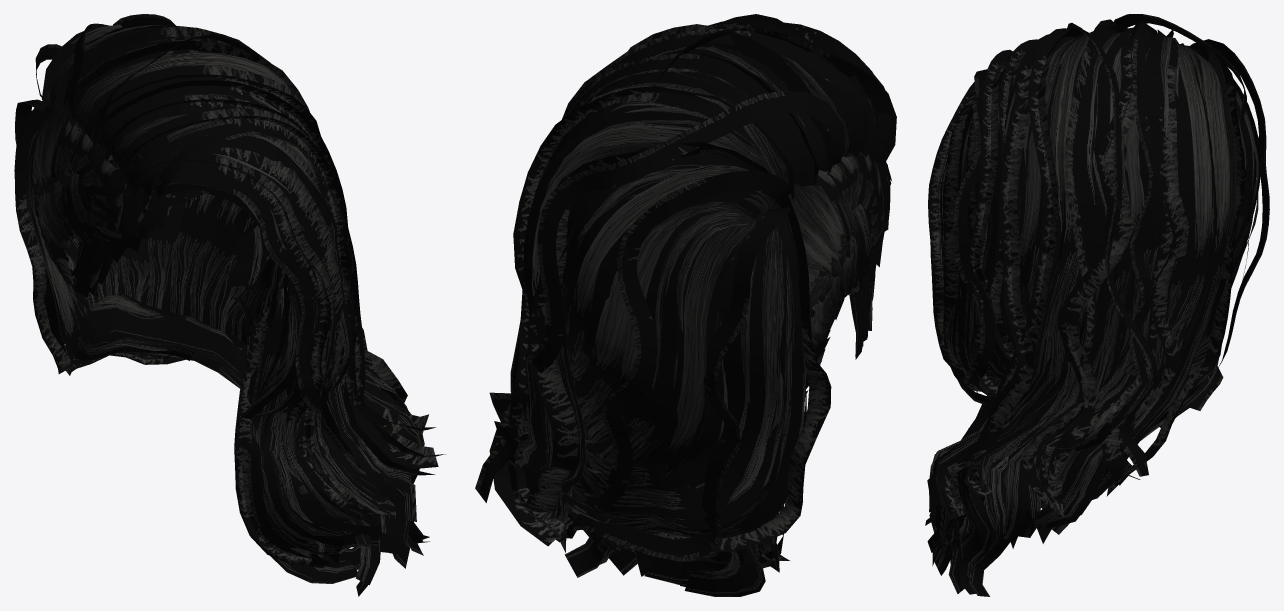
The model's file is Hair12.fbx.
The picture shows the model from 3 angles, left to right: view 1: azimuth 30°, elevation 25°; view 2: azimuth 150°, elevation 25°; view 3: azimuth 270°, elevation 25°; orthographic projection. The views are drawn at different scales.
Visible parts, largest first — view 1: avaturn_hair_1, avaturn_hair_0; view 2: avaturn_hair_1, avaturn_hair_0; view 3: avaturn_hair_1, avaturn_hair_0.
Boxes of the visible parts, left/top/right/bottom form: avaturn_hair_1: left=14, top=14, right=445, bottom=596; avaturn_hair_0: left=26, top=23, right=412, bottom=567; avaturn_hair_1: left=475, top=14, right=896, bottom=596; avaturn_hair_0: left=516, top=101, right=854, bottom=576; avaturn_hair_1: left=927, top=14, right=1269, bottom=596; avaturn_hair_0: left=925, top=43, right=1256, bottom=567.
Size of the model in its own units: 26.35 by 42.53 by 26.71.
